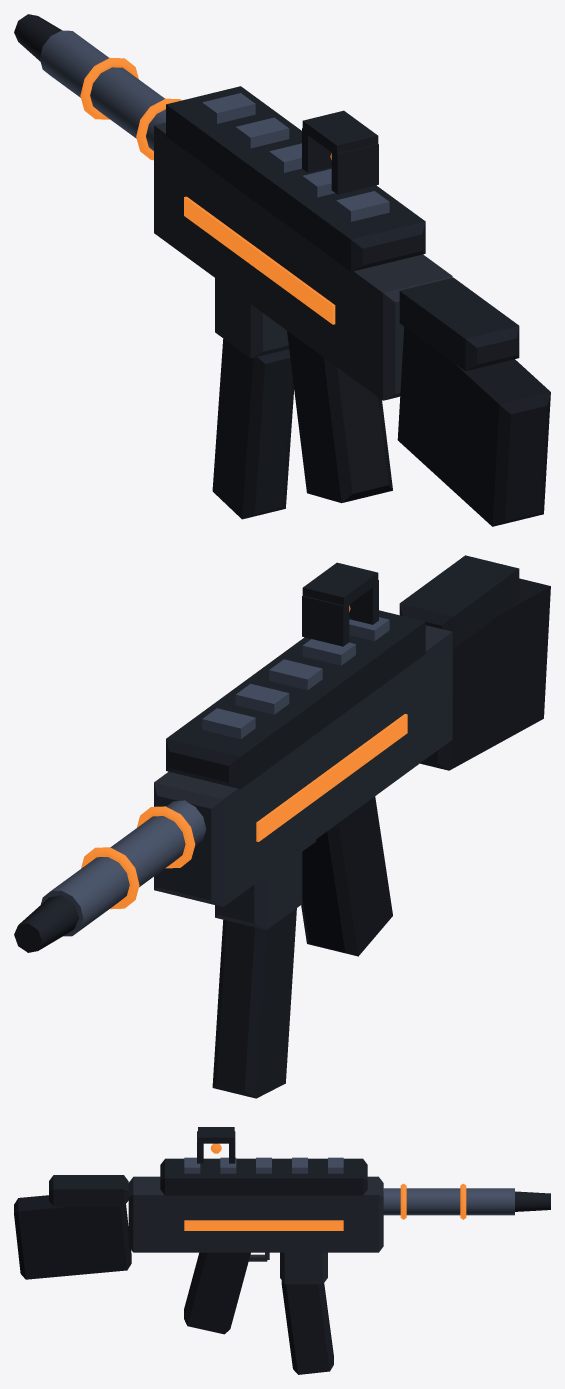
The model's file is weapon_hornet.glb.
The picture shows the model from 3 angles, top to bottom: view 1: azimuth 30°, elevation 25°; view 2: azimuth 150°, elevation 25°; view 3: azimuth 270°, elevation 25°; orthographic projection. The views are drawn at different scales.
Visible parts, largest first — view 1: weapon_hornet; view 2: weapon_hornet; view 3: weapon_hornet.
Part boxes in pixels (x1,y1,x2,y2): weapon_hornet: (14, 14, 550, 526); weapon_hornet: (14, 555, 550, 1098); weapon_hornet: (14, 1127, 550, 1374).
Size of the model in its own units: 0.058 by 0.3279 by 0.6738.
